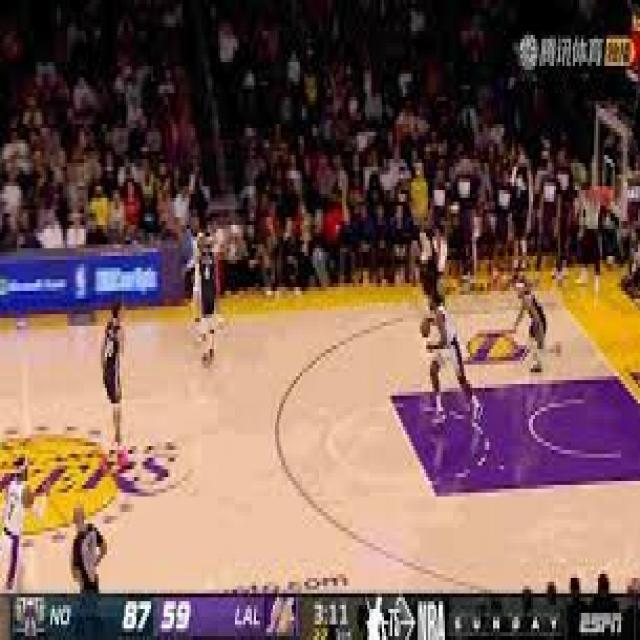rim: (420, 318, 430, 338)
